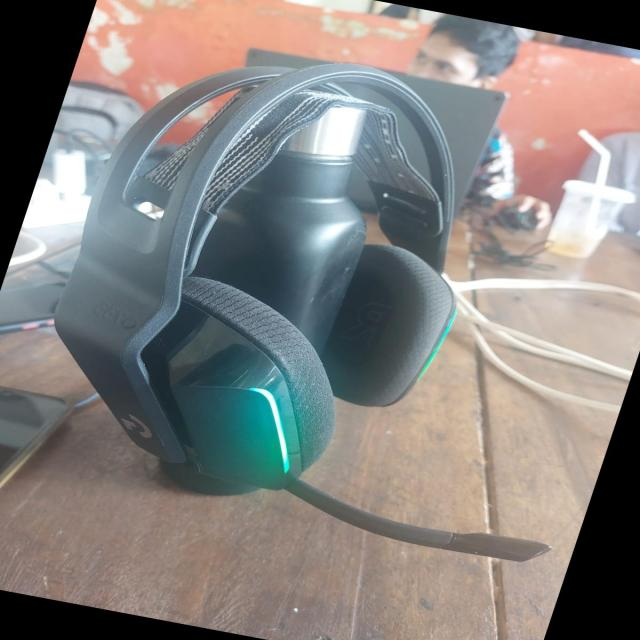earphone: (109, 44, 552, 602)
